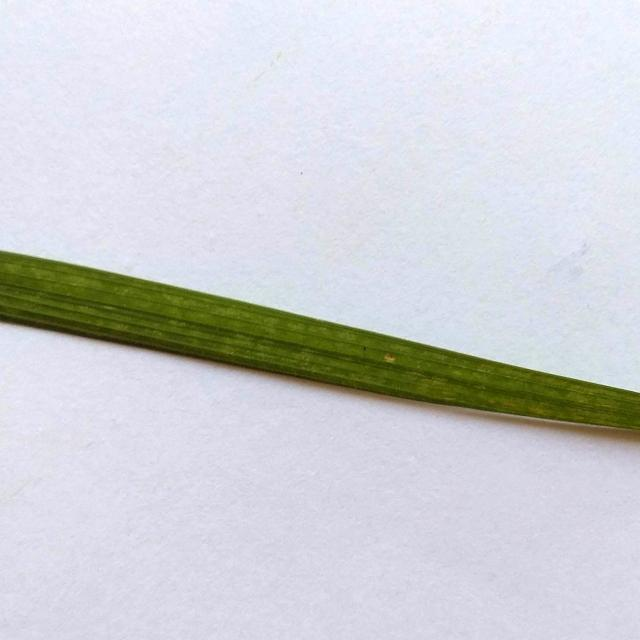brownspots: (380, 346, 397, 367)
